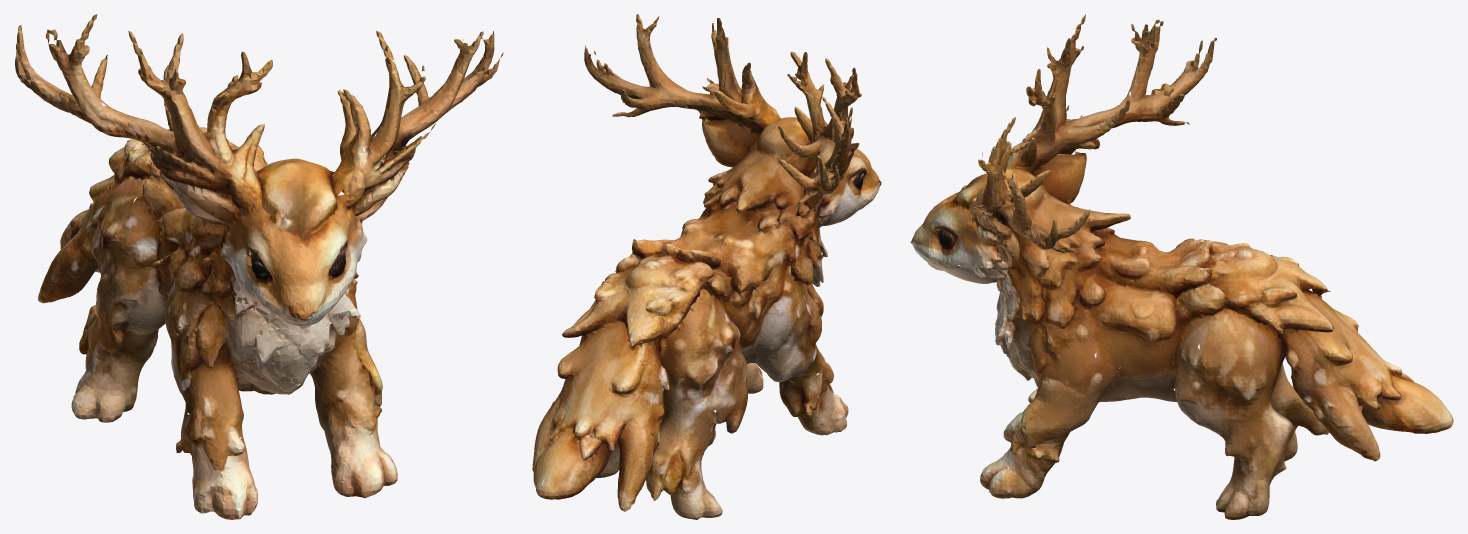
File: sylvorn_evo.glb
The picture shows the model from 3 angles, left to right: view 1: azimuth 30°, elevation 25°; view 2: azimuth 150°, elevation 25°; view 3: azimuth 270°, elevation 25°; orthographic projection. The views are drawn at different scales.
Parts seen in each view (by area): view 1: plush; view 2: plush; view 3: plush.
Part boxes in pixels (<box>): plush: <box>15,14,503,519</box>; plush: <box>532,14,881,519</box>; plush: <box>910,14,1453,519</box>.
Size of the model in its own units: 0.6953 by 0.8151 by 0.9796.
1 material, 1 textured.
